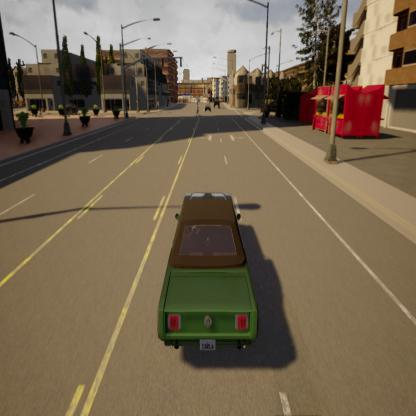Cars: (157, 191, 260, 367)
Pedestrian: (194, 97, 202, 121)
